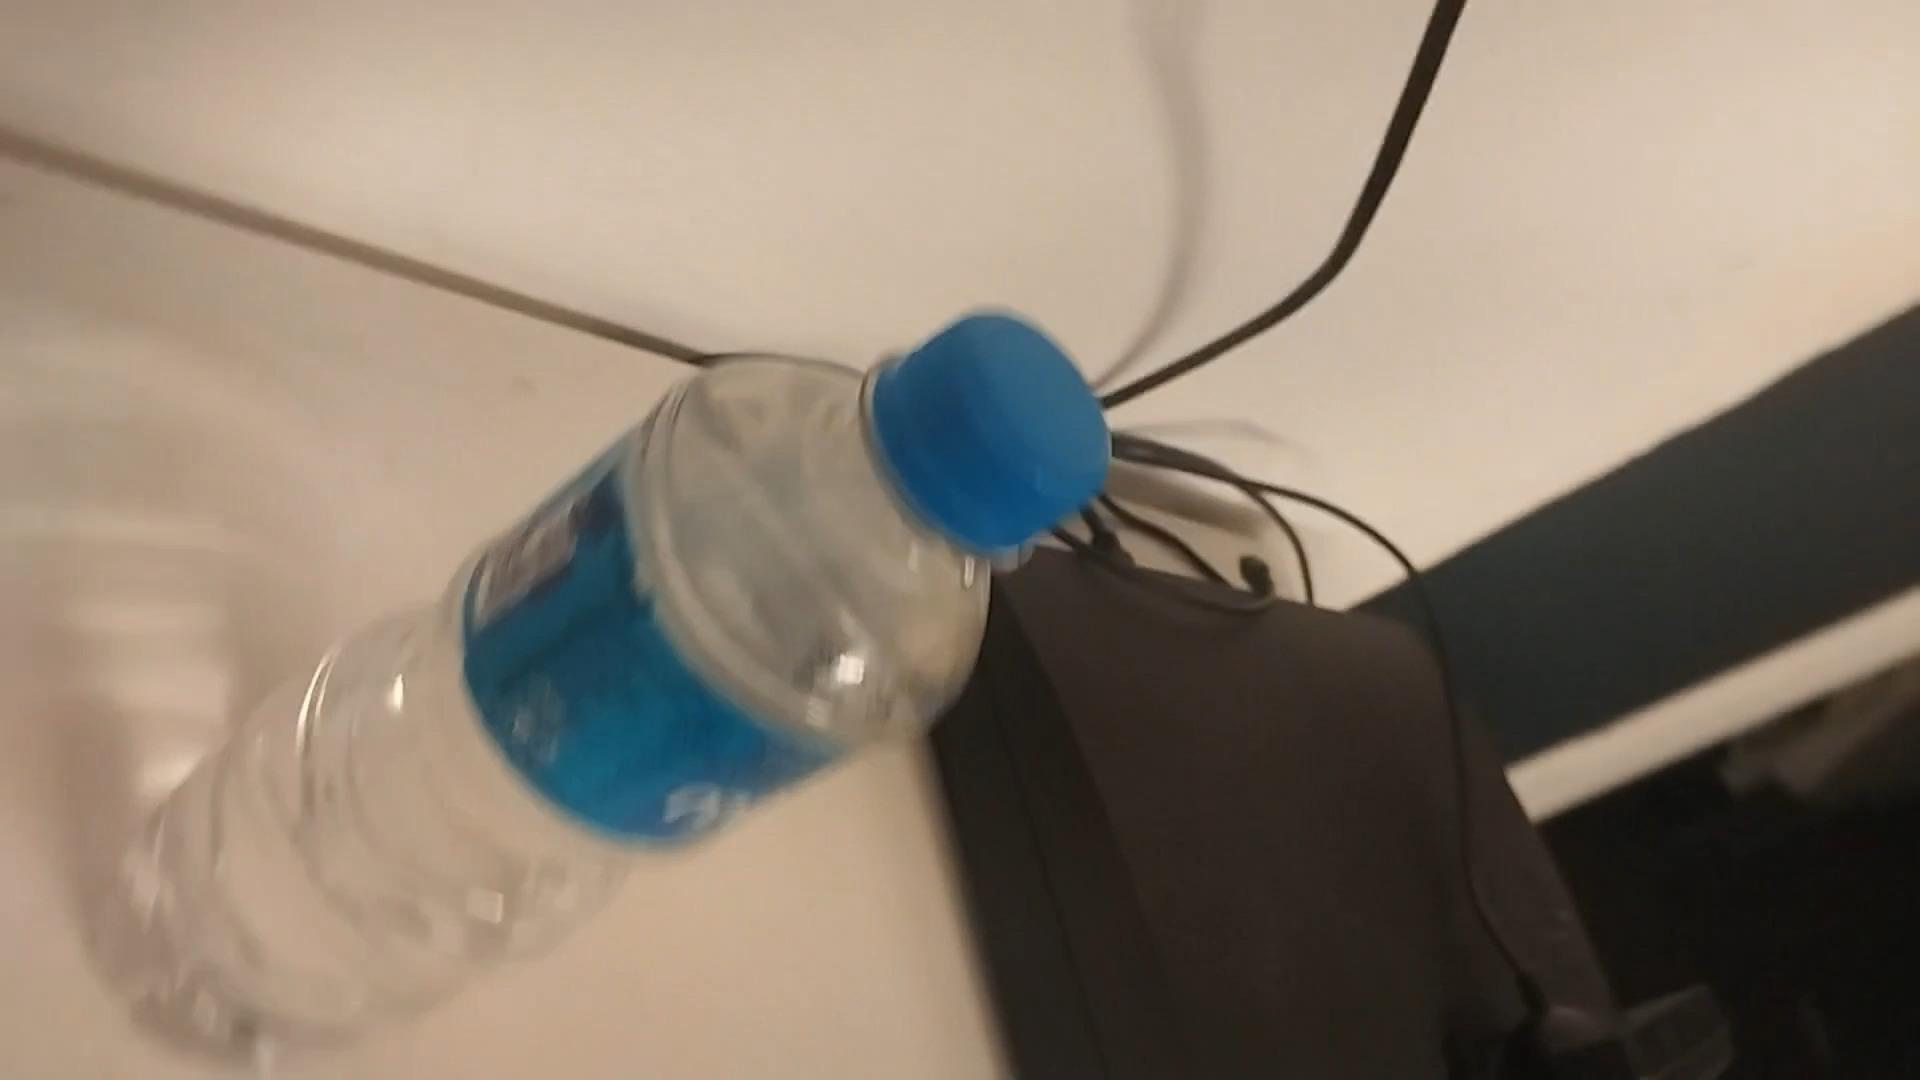agua: (104, 310, 1080, 1063)
